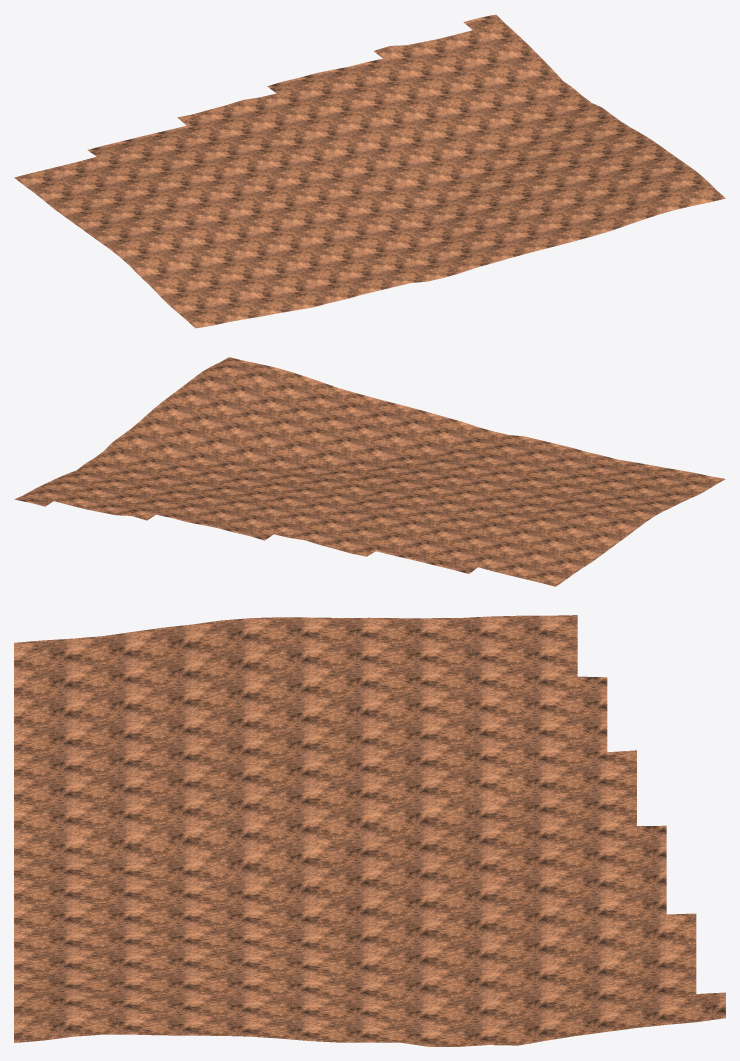
The model's file is terrain_12_18.dae.
3 views of the same model, one above another, from view 1: azimuth 30°, elevation 25°; view 2: azimuth 150°, elevation 25°; view 3: azimuth 270°, elevation 25° (orthographic). The views are drawn at different scales.
Visible parts, largest first — view 1: terrain_12_18-node; view 2: terrain_12_18-node; view 3: terrain_12_18-node.
Part boxes in pixels (left/top/right/bottom): terrain_12_18-node: left=14, top=14, right=725, bottom=328; terrain_12_18-node: left=14, top=357, right=725, bottom=586; terrain_12_18-node: left=14, top=615, right=725, bottom=1046.
Size of the model in its own units: 128 by 96 by 7.09.
1 material, 1 textured.
